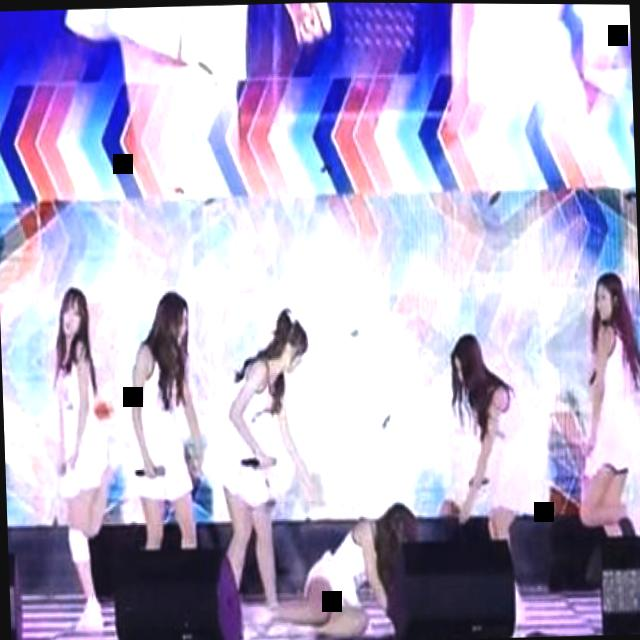Fall-Detected: (254, 487, 460, 640)
